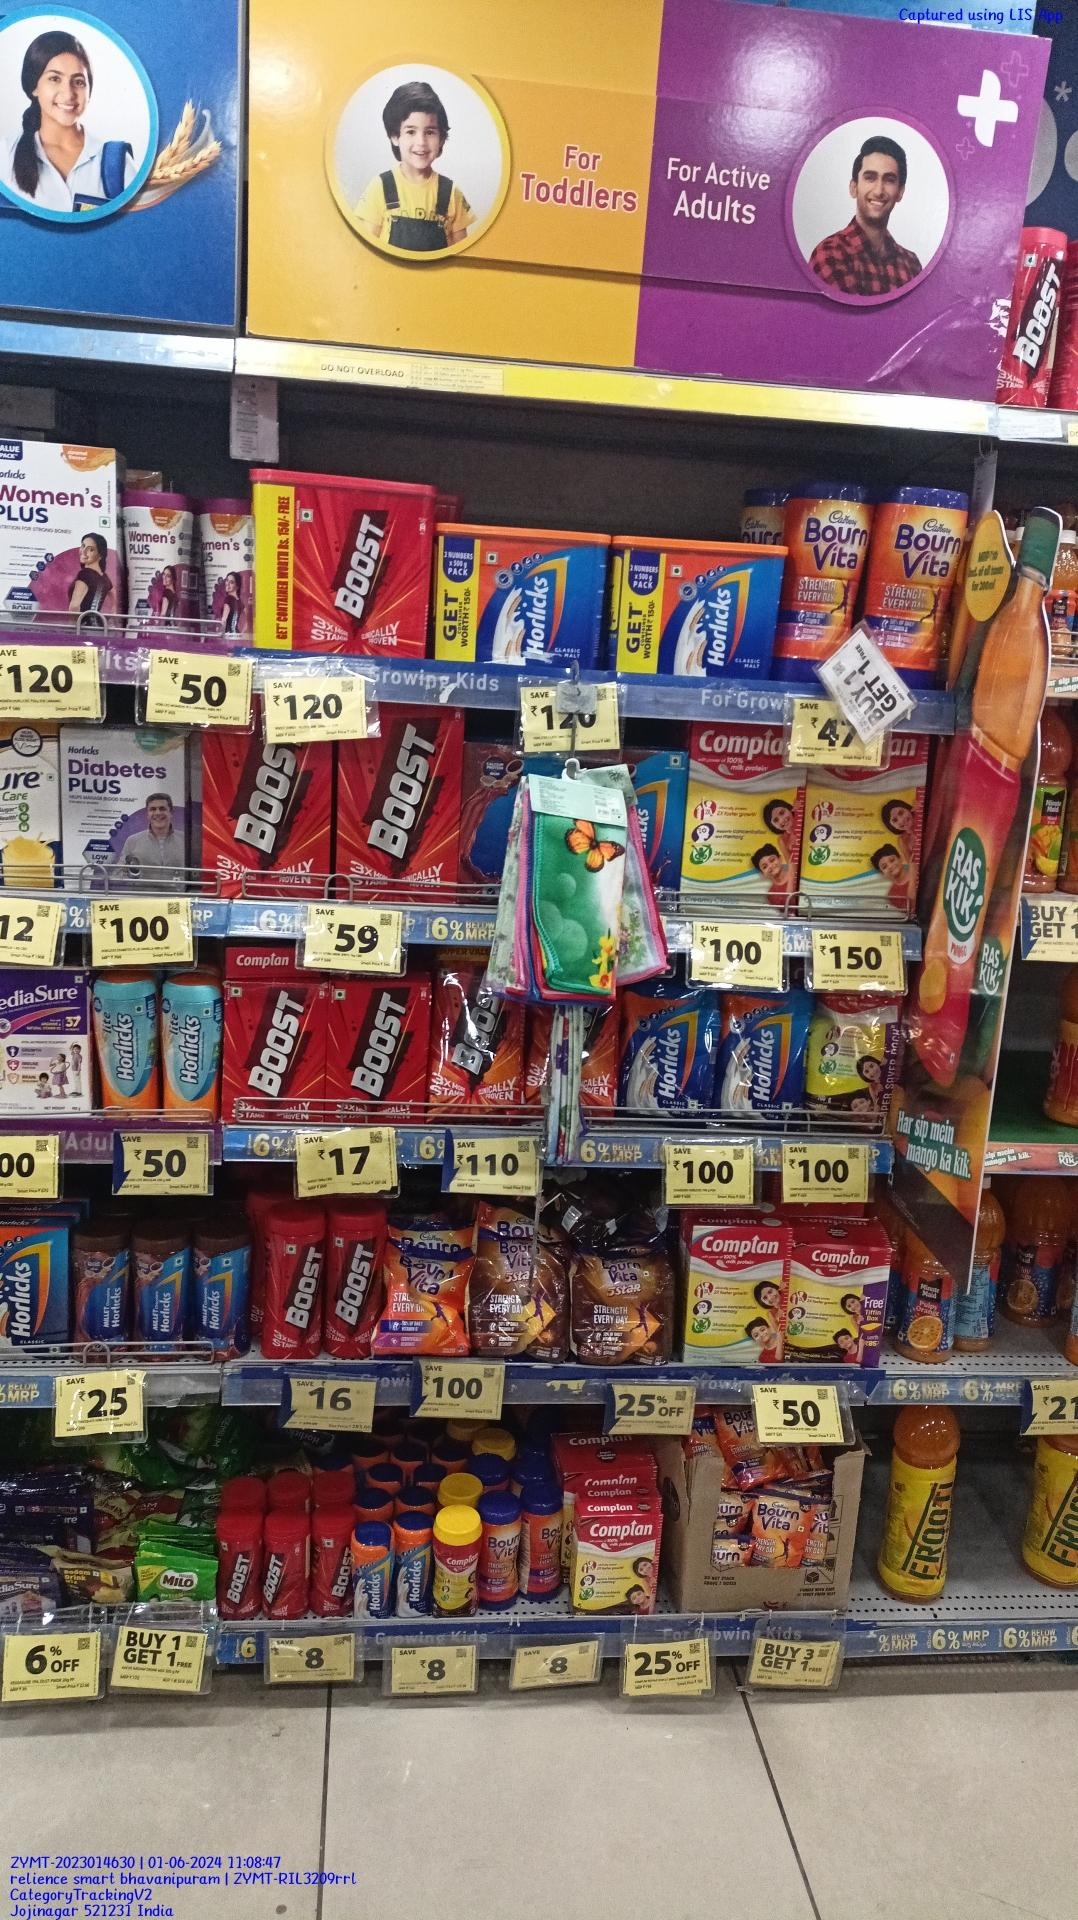BOURN_VITA_1_KG_JAR: (879, 481, 968, 686), (785, 476, 867, 684)
BOURN_VITA_200_G_JAR: (529, 1494, 565, 1602), (484, 1509, 521, 1613)
BOURN_VITA_FIVE_STAR_MAGIC_500_G_POUCH: (384, 1246, 470, 1358)
BOURN_VITA_FIVE_STAR_MAGIC_750_G_POUCH: (476, 1237, 570, 1358), (579, 1241, 669, 1362)
COMPLAN_CHOCOLATE_200_GMS_JAR: (435, 1523, 482, 1619)
COMPLAN_CHOCOLATE_200_GMS_PACK: (581, 1514, 654, 1615)
COMPLAN_RC_POUCH_700_GMS_12: (811, 989, 899, 1130)
HORLICKS_LITE_REGULAR_MALT_500_GM_JAR: (92, 972, 153, 1120), (161, 978, 219, 1122)
HORLICK_CLASSIC_MALT_200_G_JAR: (348, 1535, 392, 1621), (396, 1524, 429, 1619)
HORLICK_CLASSIC_MALT_750_G_POUCH: (625, 984, 716, 1126), (726, 993, 804, 1129)
HORLICK_MALT_1_KG_CONTAINER: (435, 521, 606, 666), (614, 538, 775, 678)
